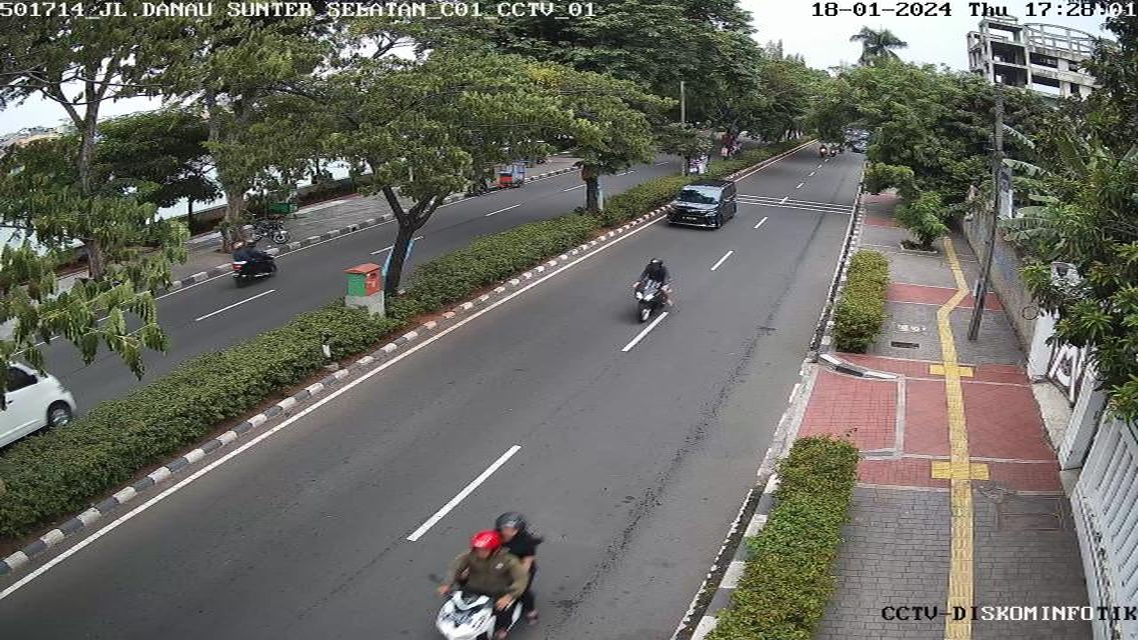Gerobak: (263, 182, 302, 220), (498, 159, 530, 187)
